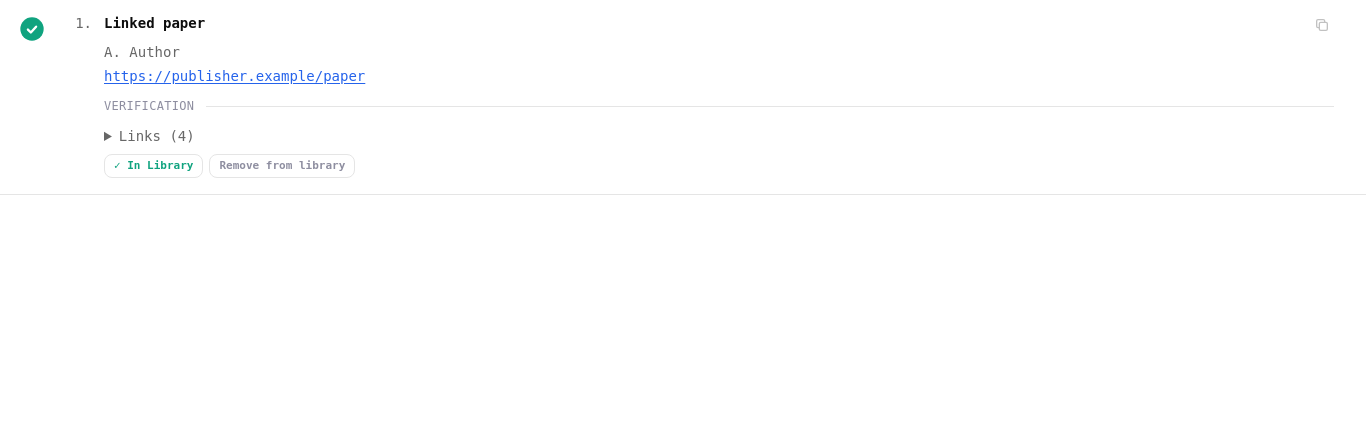
Test case: ReferenceCard › shows every distinct result link in a collapsible list
The image size is (1366, 438).
Click the heading "Links (4)": point(157, 136) 119,128 -> 195,144
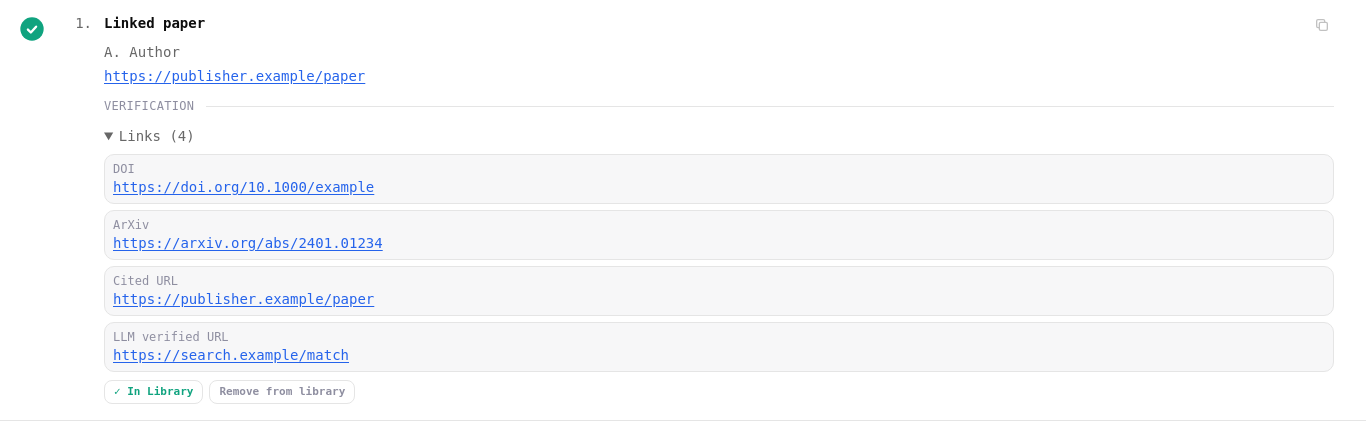
Now the link "https://doi.org/10.1000/example" is shown, box 113,179 -> 374,195
Now the link "https://arxiv.org/abs/2401.01234" is shown, box 113,235 -> 383,251
Now the number of links "https://publisher.example/paper" is 2, box 104,68 -> 365,84; 113,291 -> 374,307
